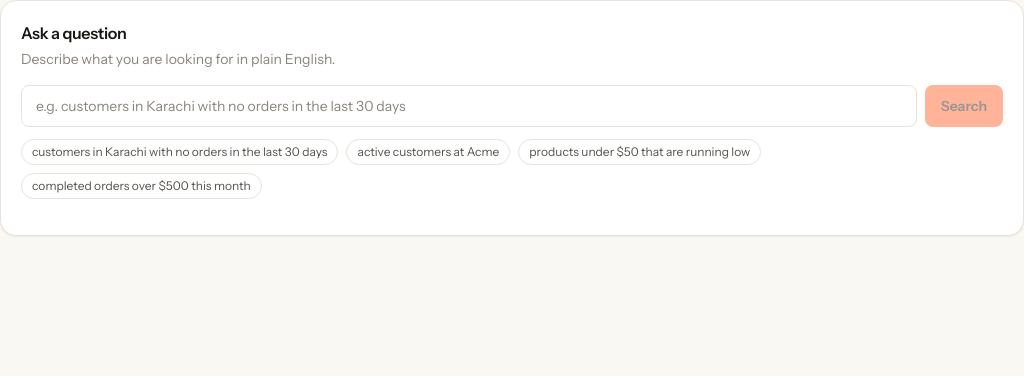
Test: AiSearchBar › says when it fell back to keyword search
This screenshot has width=1024, height=376.
Type "customers in Karachi" into the field at (469, 106), box [21, 85, 917, 127]
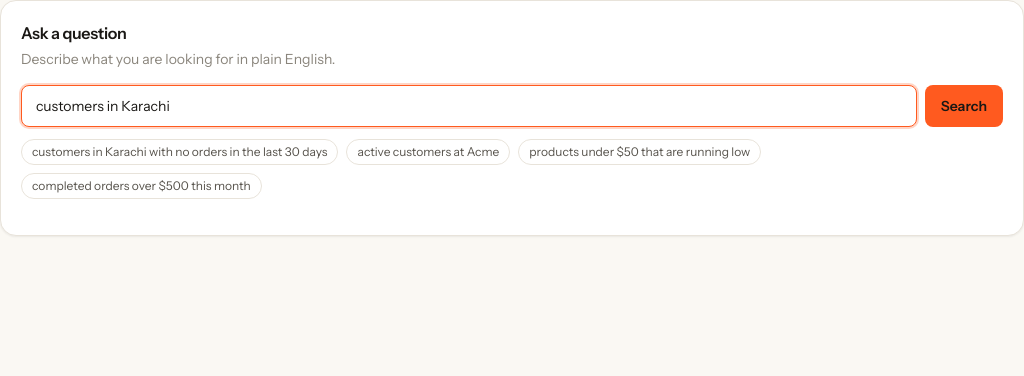
Click the button "Search" at (964, 106), box [925, 85, 1003, 127]
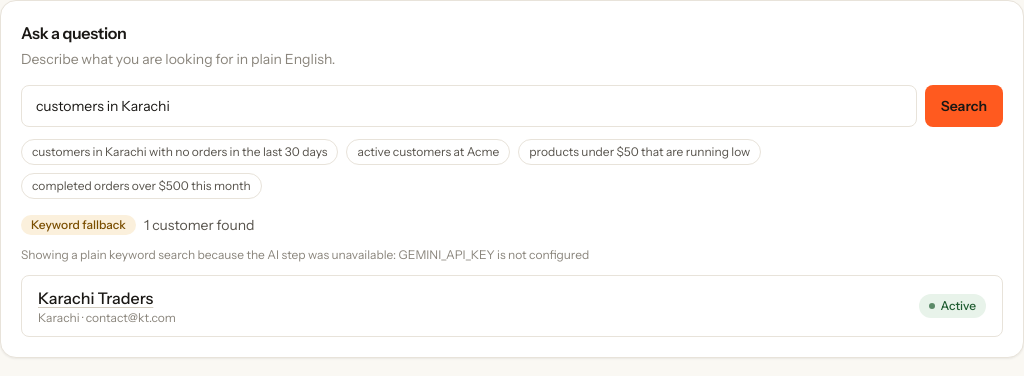
Check: the link "Karachi Traders" is shown, box [38, 288, 153, 308]
Check: the text "Keyword fallback" is shown, box [21, 215, 136, 235]
